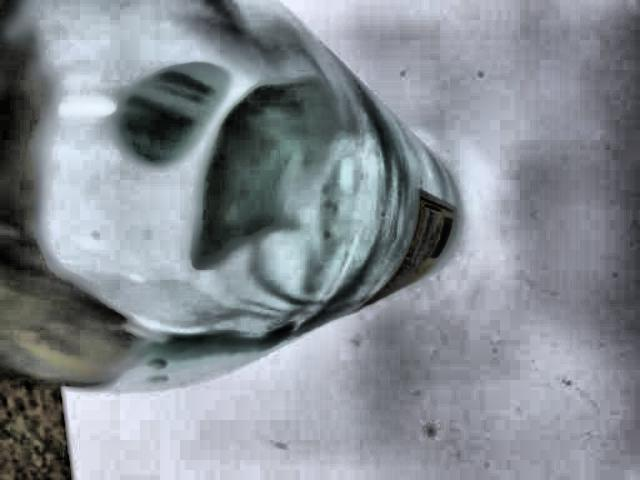Bottles: (0, 0, 470, 394)
